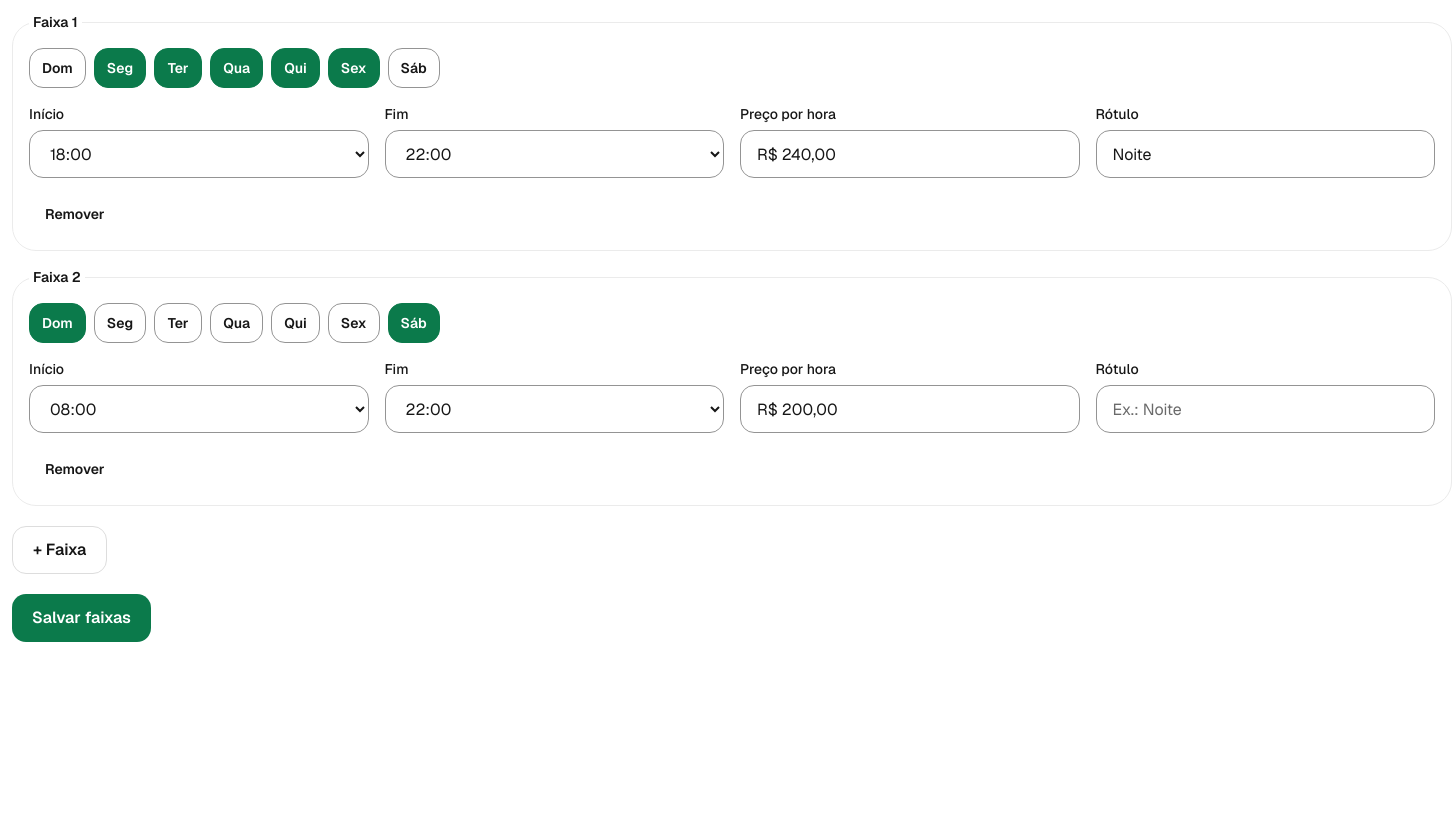
Test case: PriceRulesEditor › accepts nested server keys such as "1.endMinute"
Click the button "Salvar faixas" at (81, 618), box [12, 594, 151, 642]
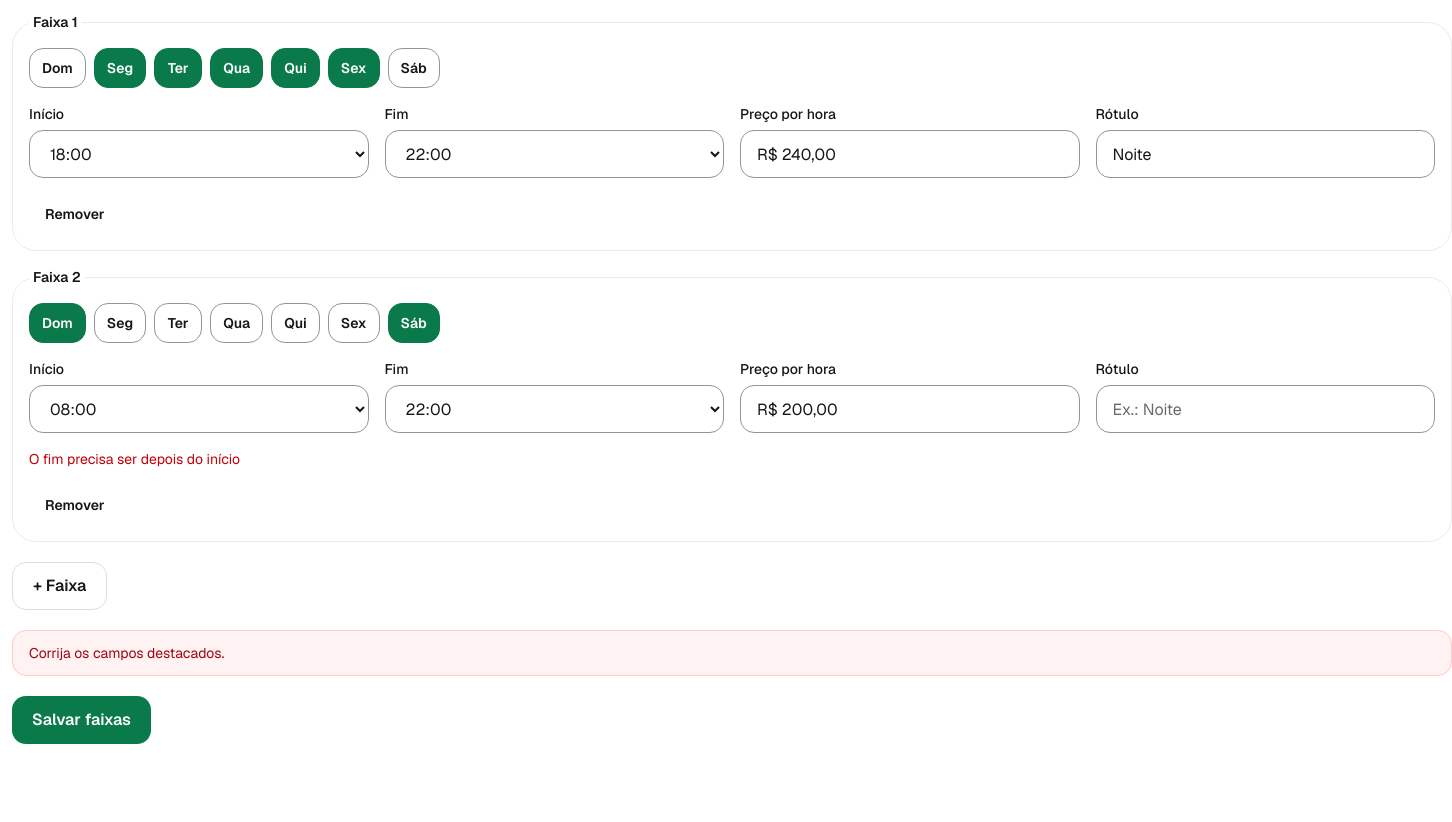
Expected: the text "O fim precisa ser depois do início" is shown, [29, 450, 240, 468]
